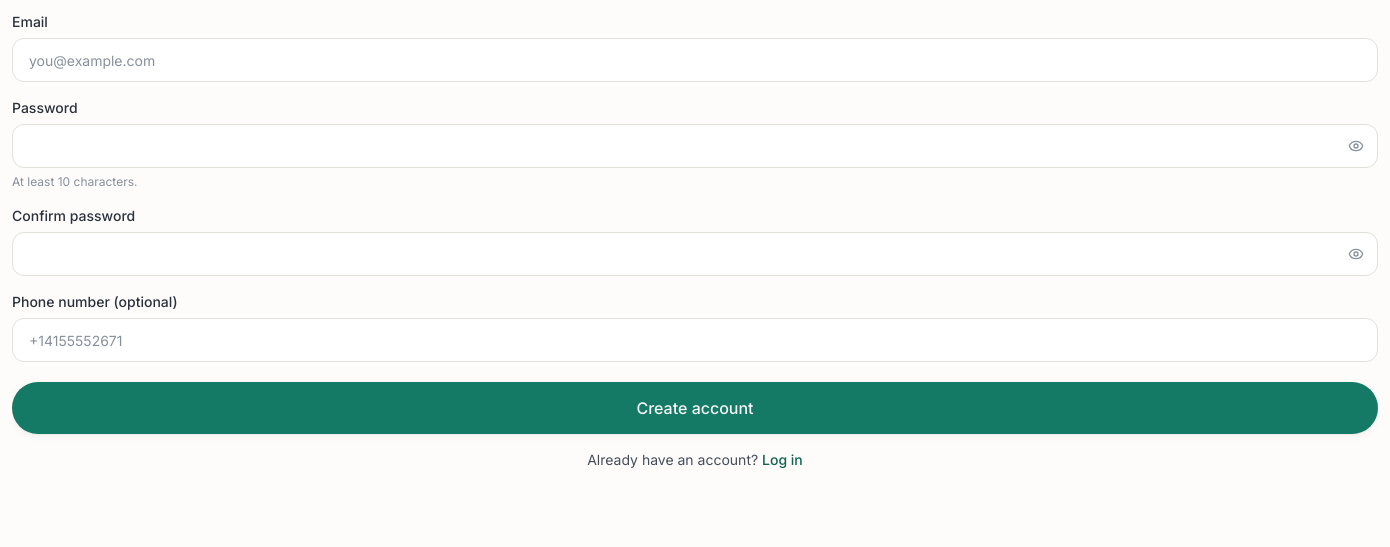
Scenario: SignupForm › re-enables submission after a failed attempt, without ever sending a second concurrent request
In the field labelled "Email": coordinates (695, 60) 12,38 -> 1378,82, type "user@example.com"
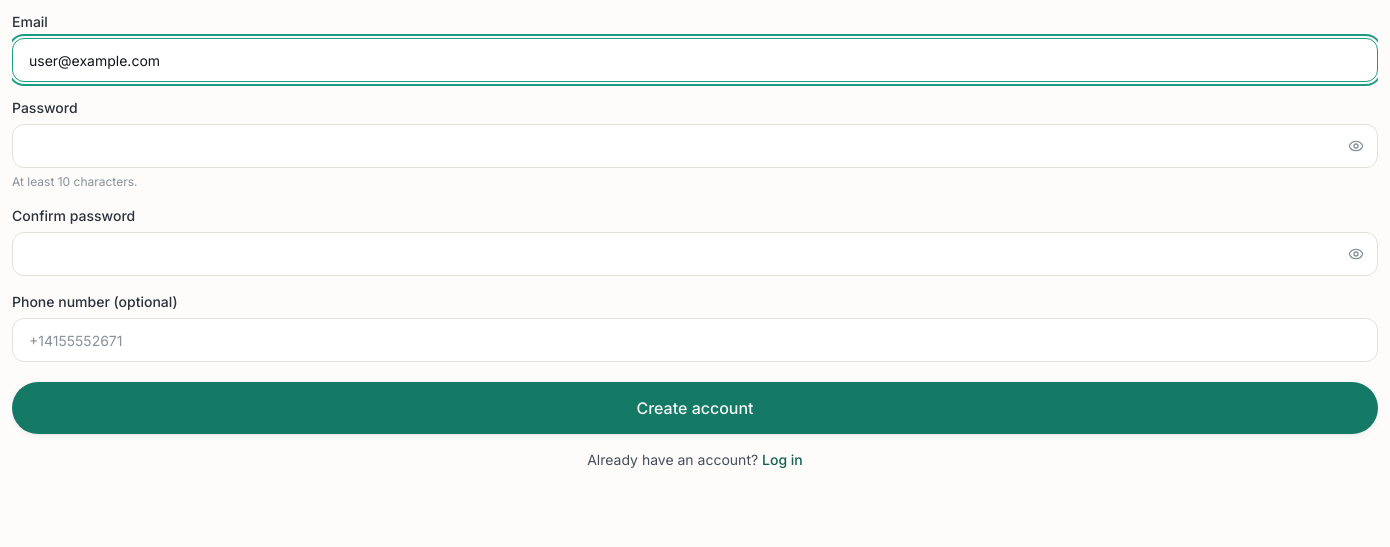
In the password field labelled "Password": coordinates (695, 146) 12,124 -> 1378,168, type "longenoughpassword"
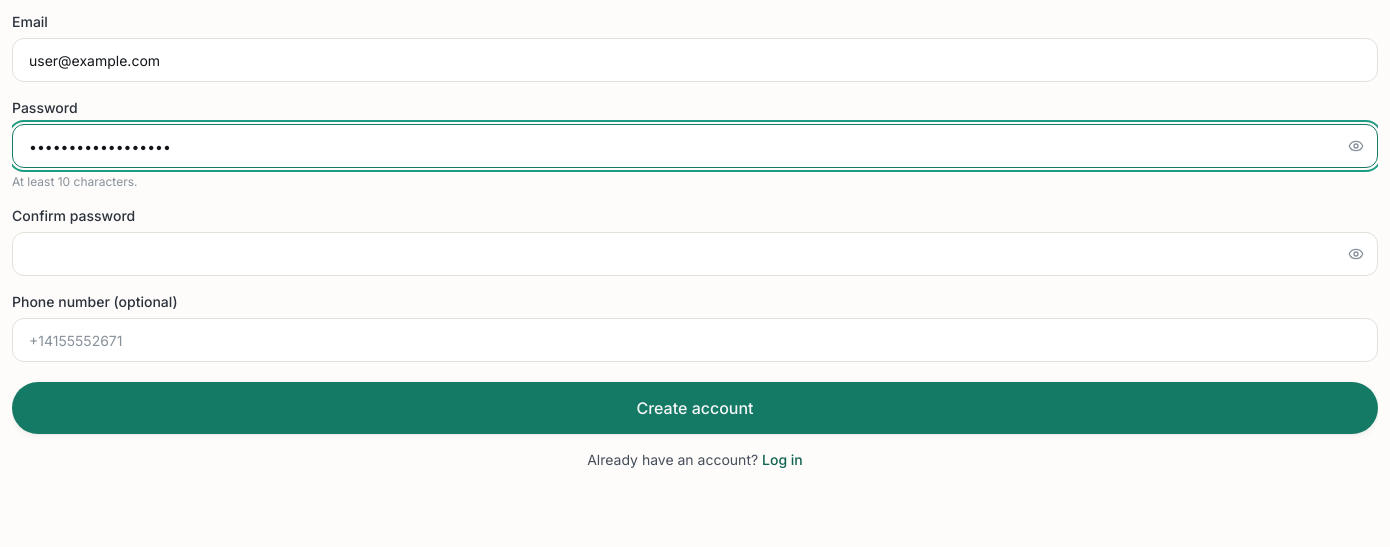
In the password field labelled "Confirm password": coordinates (695, 254) 12,232 -> 1378,276, type "longenoughpassword"
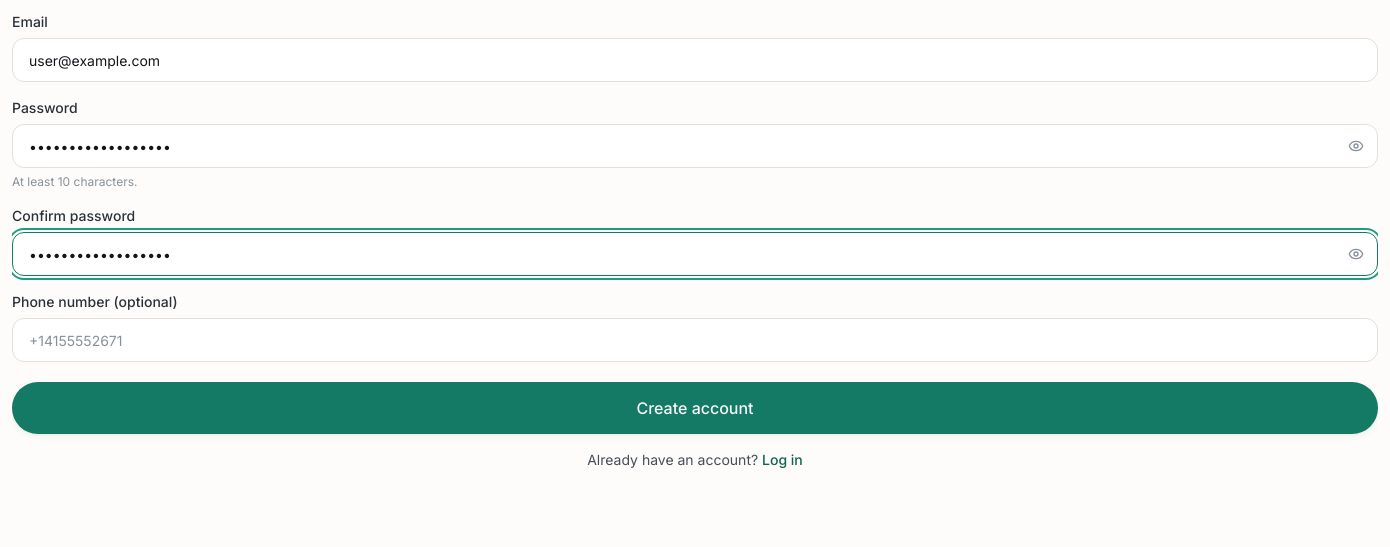
Click the button "Create account": coordinates (695, 408) 12,382 -> 1378,434
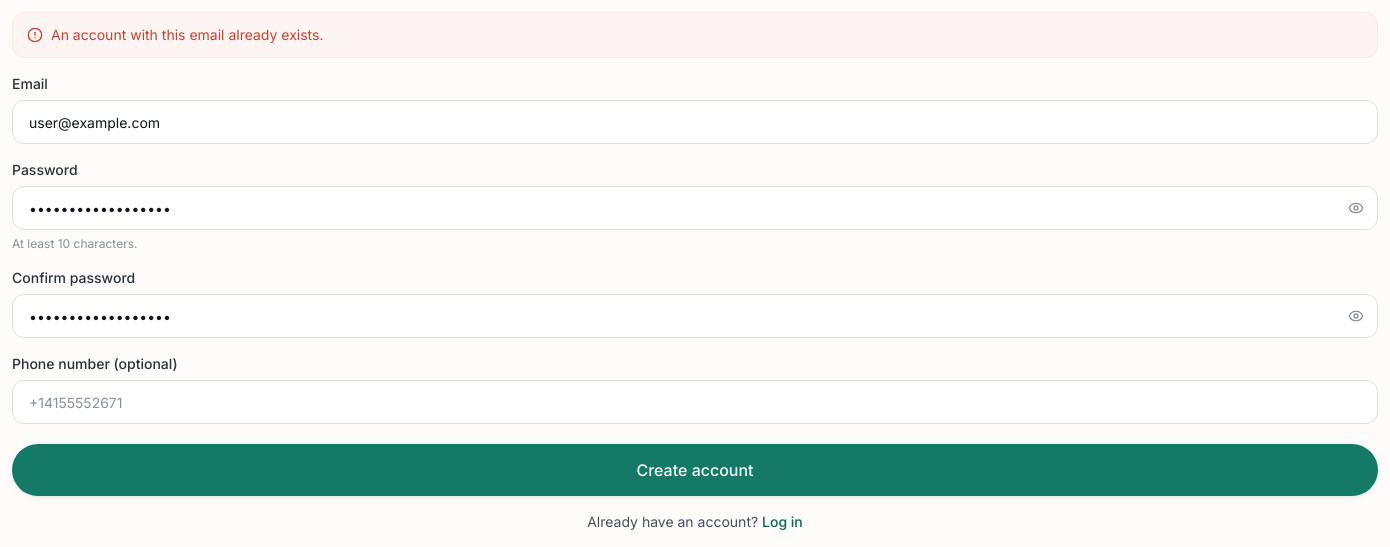
Expected: the message "An account with this email already exists." is shown, 12,12 -> 1378,58
Click the button "Create account": coordinates (695, 470) 12,444 -> 1378,496
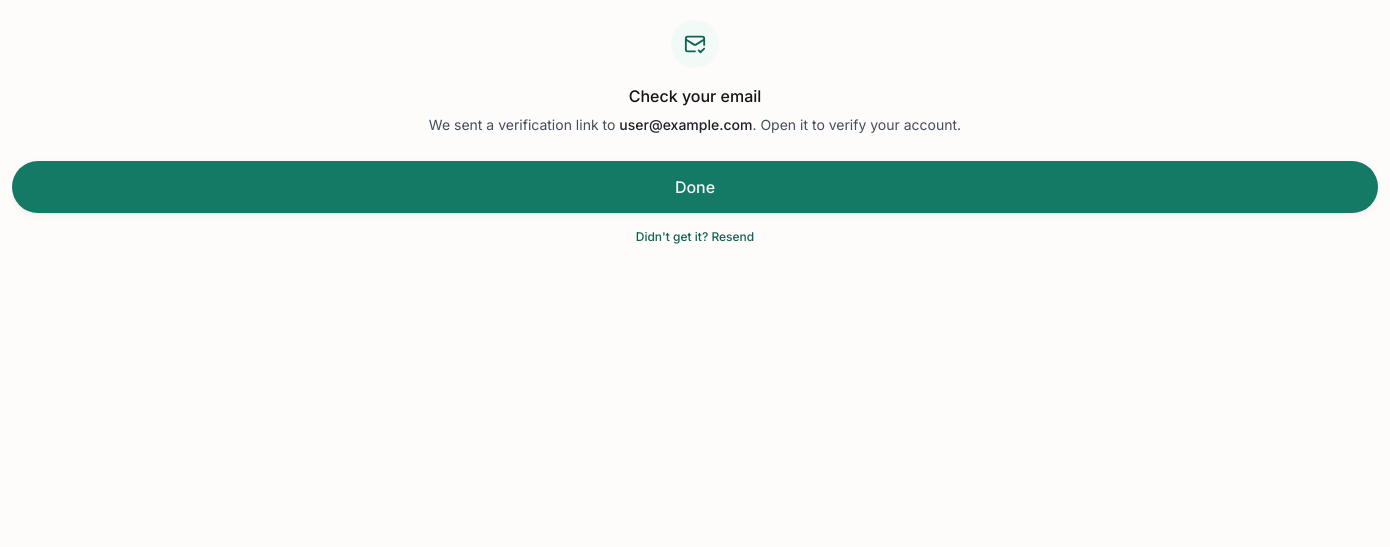
Expected: the text "Check your email" is shown, 629,86 -> 761,106
